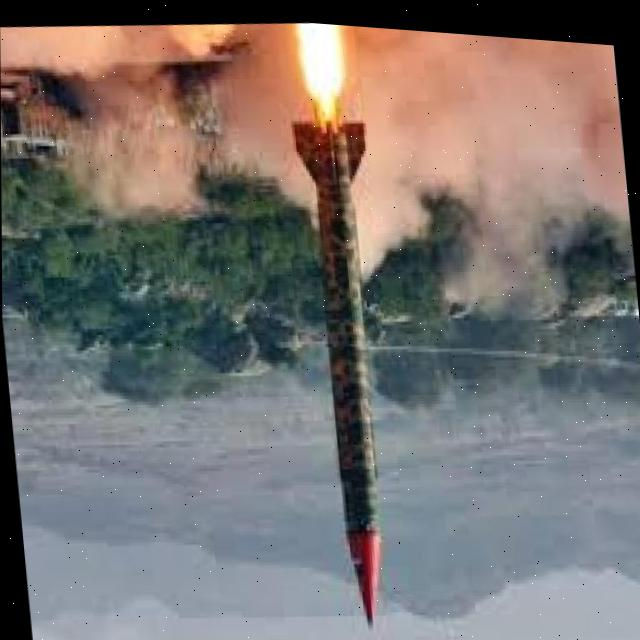missile: (288, 109, 413, 630)
